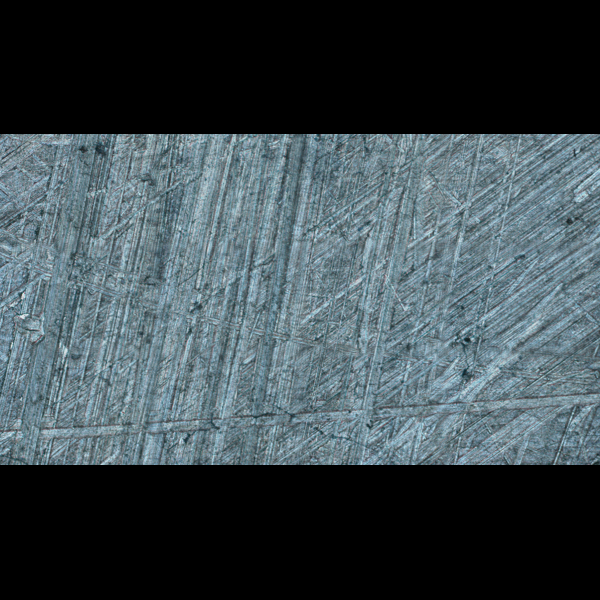d: (0, 221, 599, 394), (295, 135, 433, 465), (0, 385, 599, 456)
